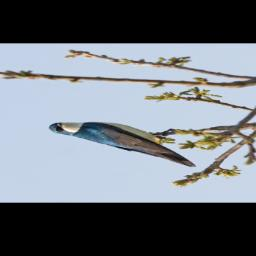Swallow: (35, 118, 207, 169)
